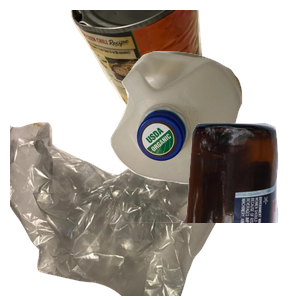glass: (87, 120, 300, 300)
metal: (68, 10, 265, 131)
plastic: (108, 49, 300, 226)
trash: (10, 120, 231, 300)
